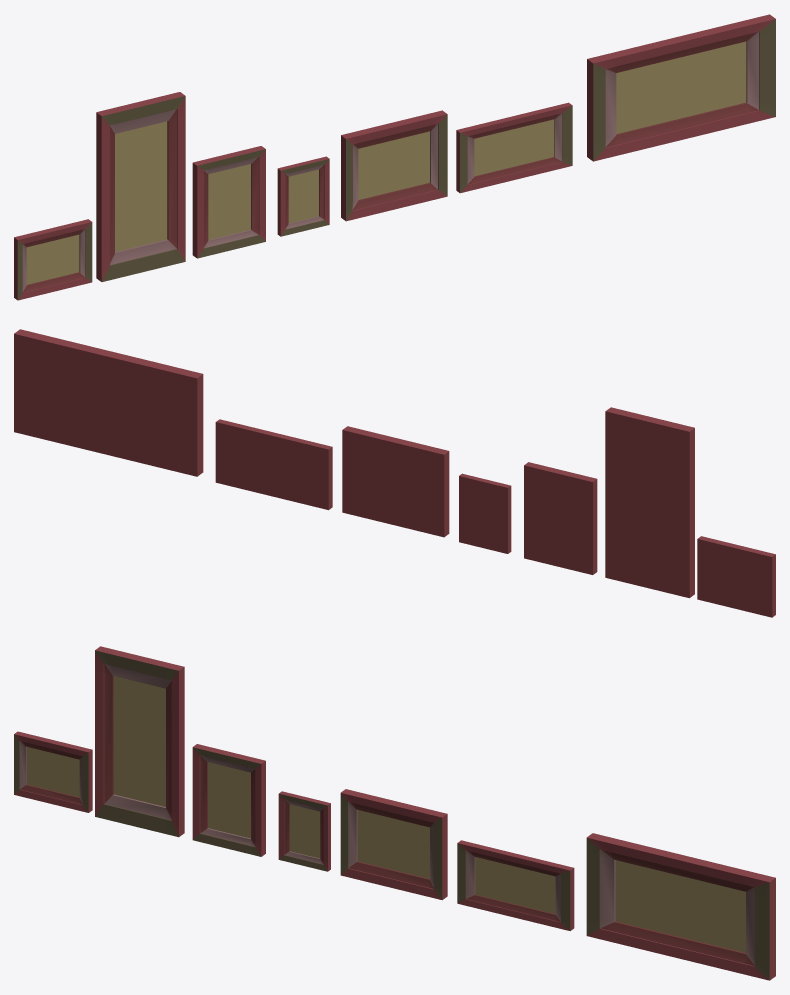
Rendered from Picture_Frames.fbx.
The picture shows the model from 3 angles, top to bottom: view 1: azimuth 30°, elevation 25°; view 2: azimuth 150°, elevation 25°; view 3: azimuth 330°, elevation 25°; orthographic projection.
Visible parts, largest first — view 1: Frame_6, Frame_7, Frame_3, Frame_5, Frame_1, Frame_4, Frame_2; view 2: Frame_6, Frame_7, Frame_3, Frame_5, Frame_1, Frame_4, Frame_2; view 3: Frame_6, Frame_7, Frame_3, Frame_5, Frame_1, Frame_4, Frame_2.
Boxes of the visible parts, x1,y1,x2,y2 form: Frame_6: [587, 14, 775, 161]; Frame_7: [96, 92, 185, 281]; Frame_3: [341, 110, 447, 221]; Frame_5: [456, 102, 572, 193]; Frame_1: [192, 146, 265, 258]; Frame_4: [14, 219, 92, 300]; Frame_2: [277, 156, 329, 236]; Frame_6: [14, 329, 203, 476]; Frame_7: [605, 407, 694, 598]; Frame_3: [342, 426, 449, 537]; Frame_5: [215, 419, 332, 510]; Frame_1: [524, 462, 597, 574]; Frame_4: [697, 536, 775, 617]; Frame_2: [459, 473, 511, 553]; Frame_6: [586, 833, 775, 980]; Frame_7: [95, 646, 184, 837]; Frame_3: [340, 789, 447, 900]; Frame_5: [457, 840, 574, 930]; Frame_1: [192, 744, 265, 856]; Frame_4: [14, 731, 92, 812]; Frame_2: [278, 791, 330, 871].
Bounding box in the file's own units: 55.88 × 11.77 × 0.7933.
